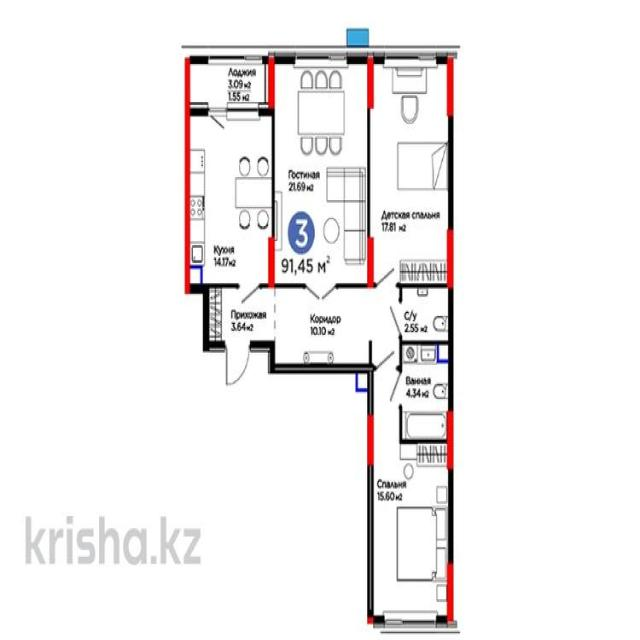balcony: (185, 59, 268, 108)
bathroom: (403, 346, 449, 440), (399, 285, 448, 339)
hallway: (274, 289, 371, 369), (206, 286, 273, 341)
kitchen: (188, 118, 273, 282)
living_room: (275, 60, 367, 283), (371, 59, 451, 282), (372, 440, 451, 616)
